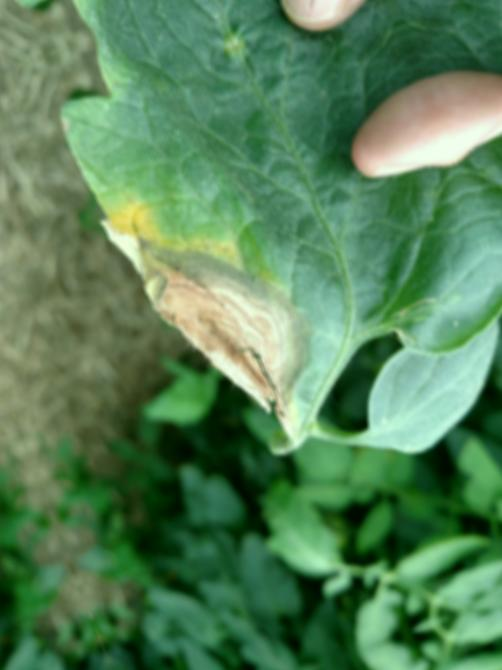Tomato mold leaf: (30, 0, 502, 539)
